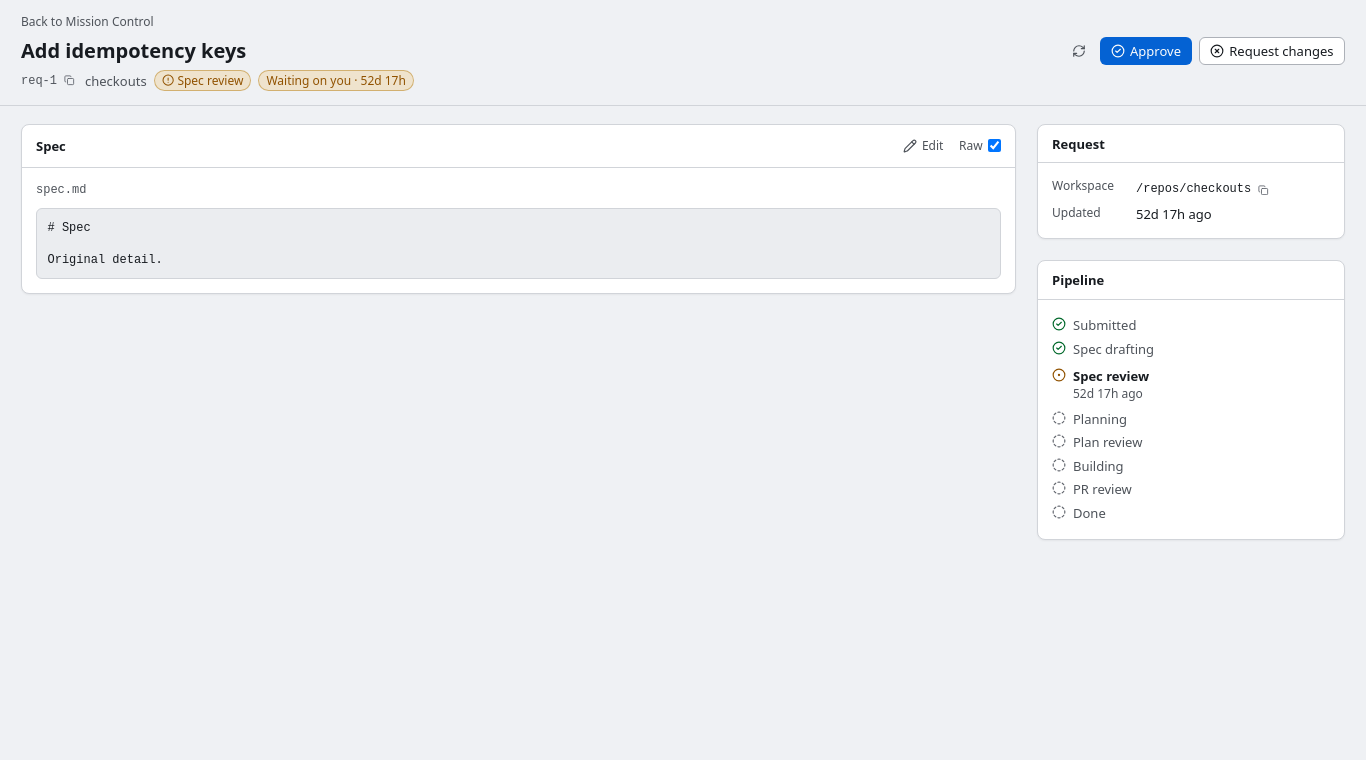
it: a 409 conflict on saving a spec edit fetches and diffs the current server content, and 'Discard mine and reload' drops the unsaved edit
Expected: the heading "Add idempotency keys" is shown, [21,37,246,64]
Expected: the button "Approve" is enabled, [1100,37,1192,65]
Click the button "Edit" at (923, 146), box [894,134,952,158]
(page scrolled)
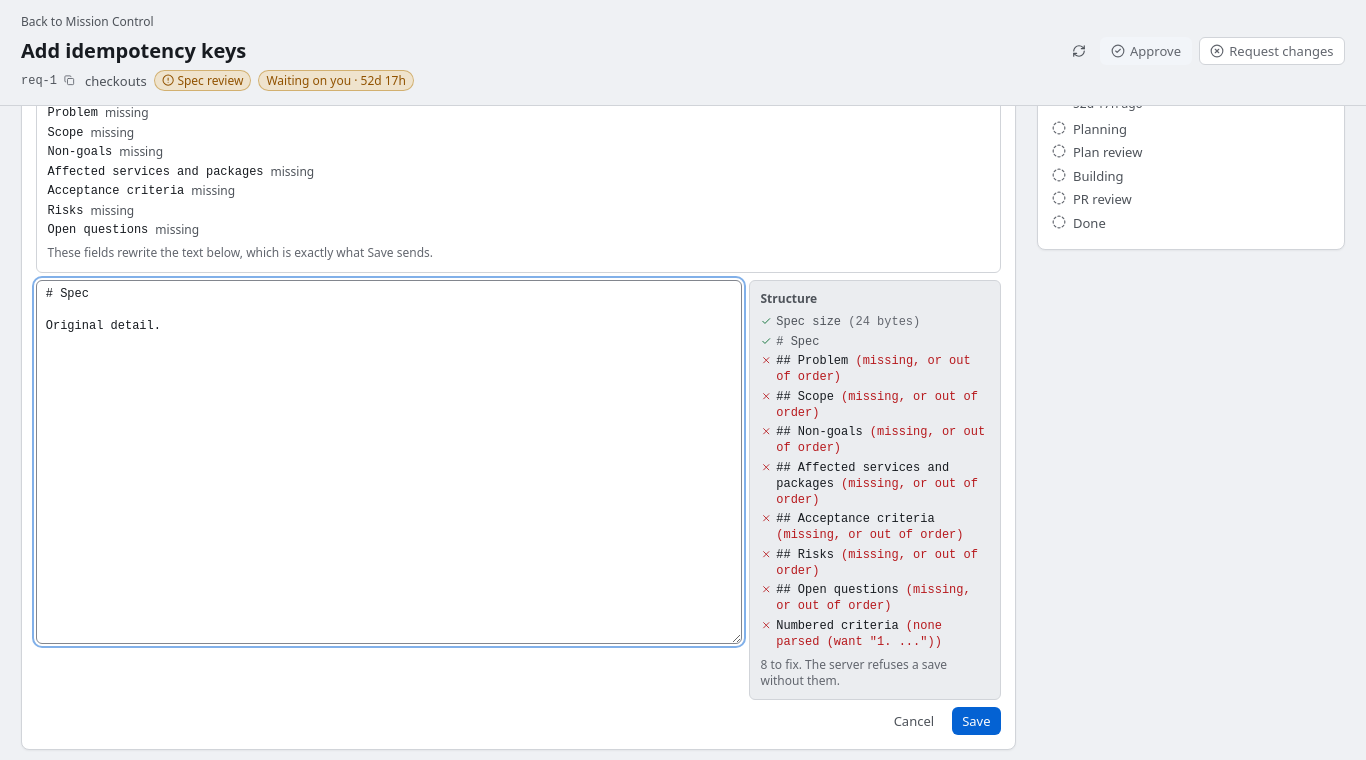
Clear the text box named "Edit spec.md" at (389, 462), box [36,280,742,644]
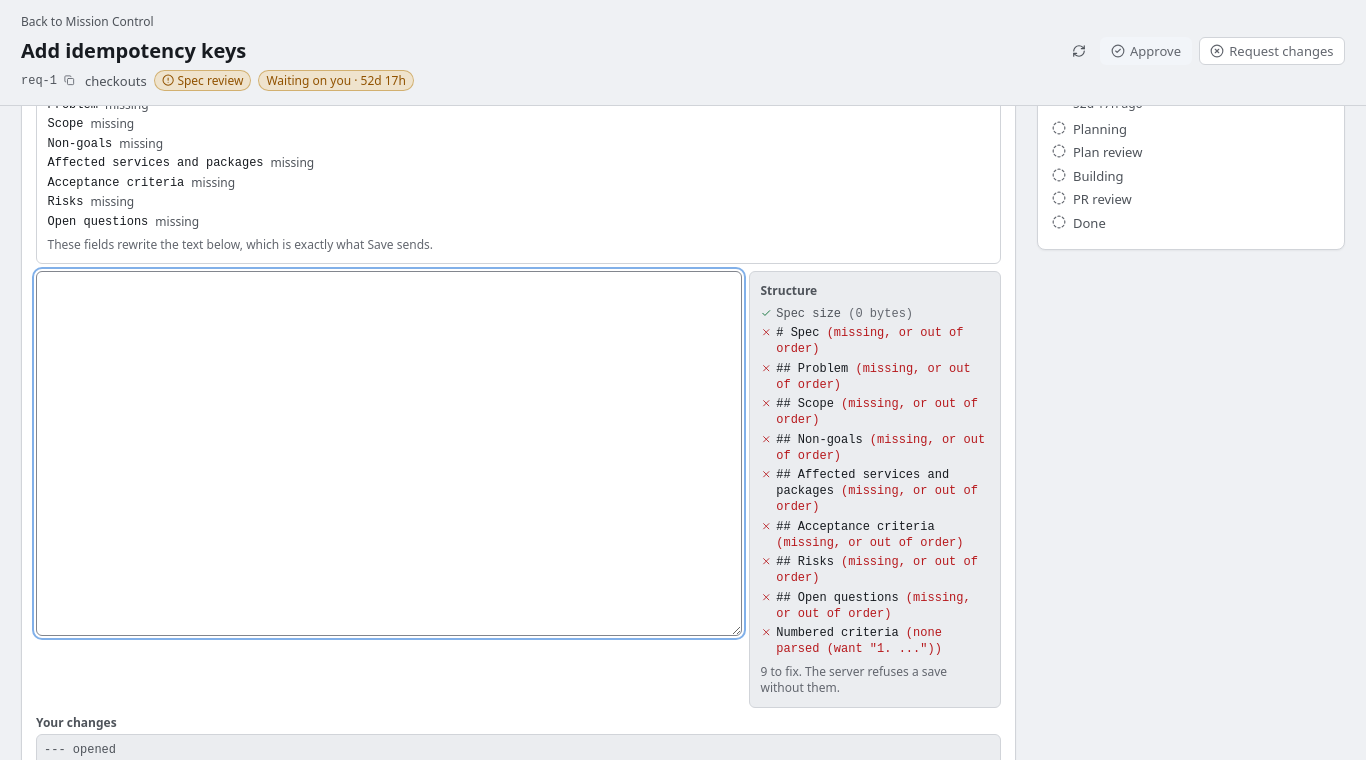
Type "My unsaved edit." into the text box named "Edit spec.md" at (389, 454), box [36,271,742,636]
(page scrolled)
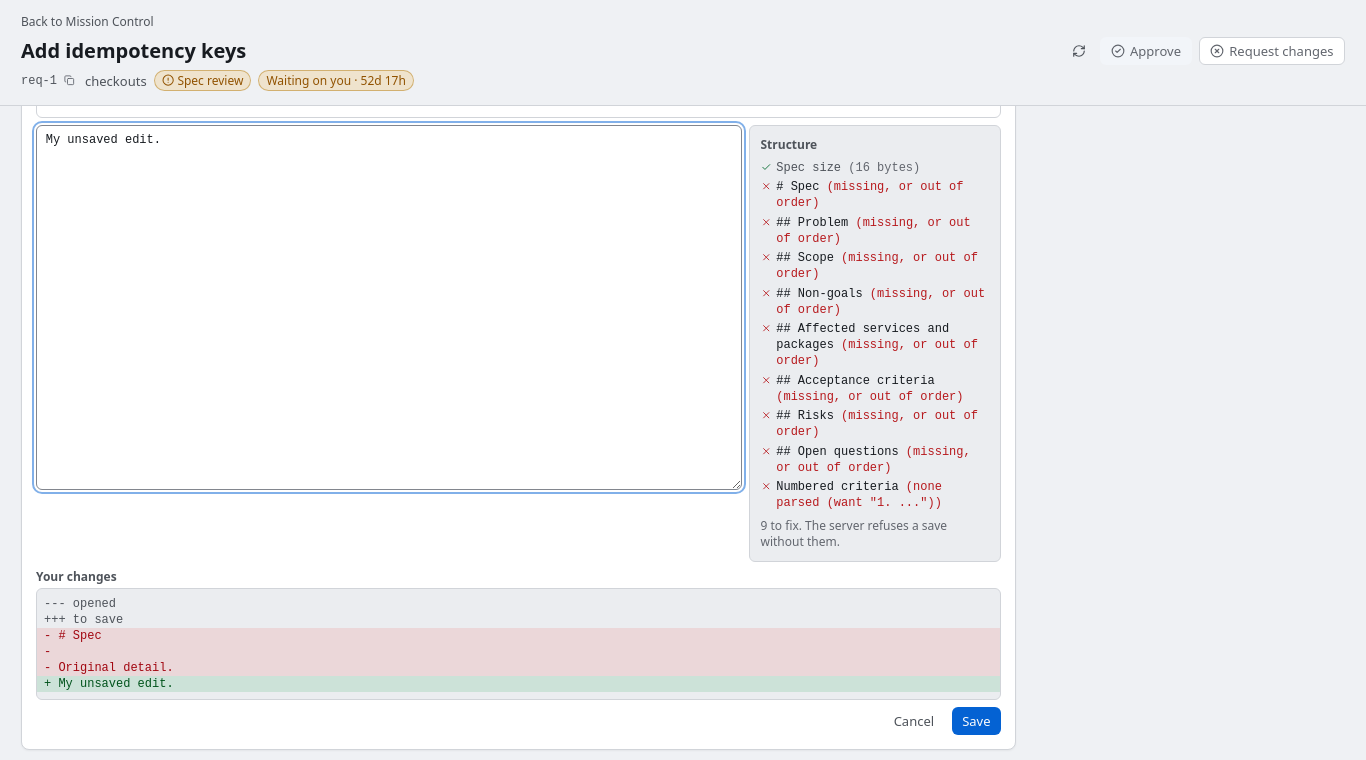
Click the button "Save" at (976, 721), box [952,707,1001,735]
(page scrolled)
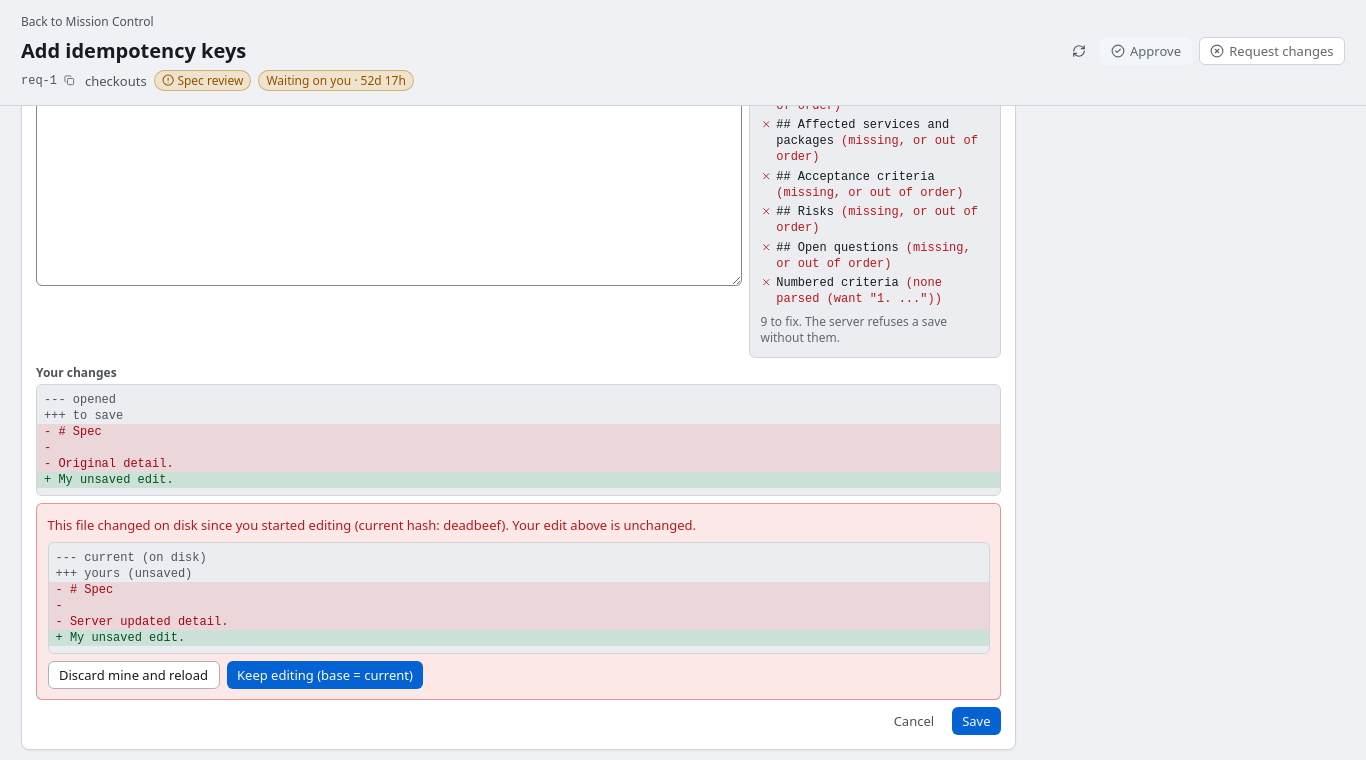
Now the message with test id "edit-conflict" shows "current hash: deadbeef", box [48,516,696,534]
Now the text "- Server updated detail." is shown, box [48,614,988,630]
Now the text "+ My unsaved edit." below "- Server updated detail." is shown, box [56,631,185,645]
Click the button "Discard mine and reload" at (134, 675), box [48,661,220,689]
(page scrolled)
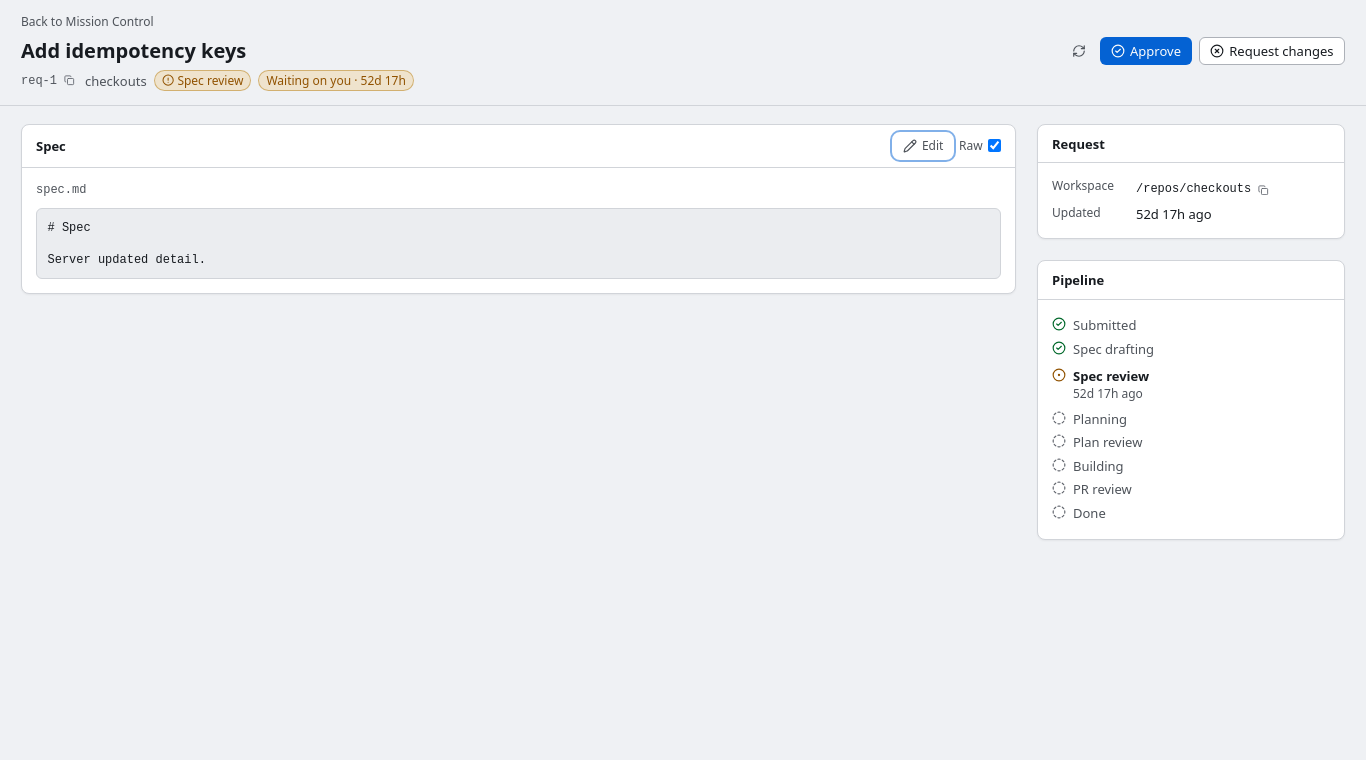
Now the text "# Spec Server updated detail." is shown, box [48,221,206,267]
Now the button "Approve" is enabled, box [1100,37,1192,65]
